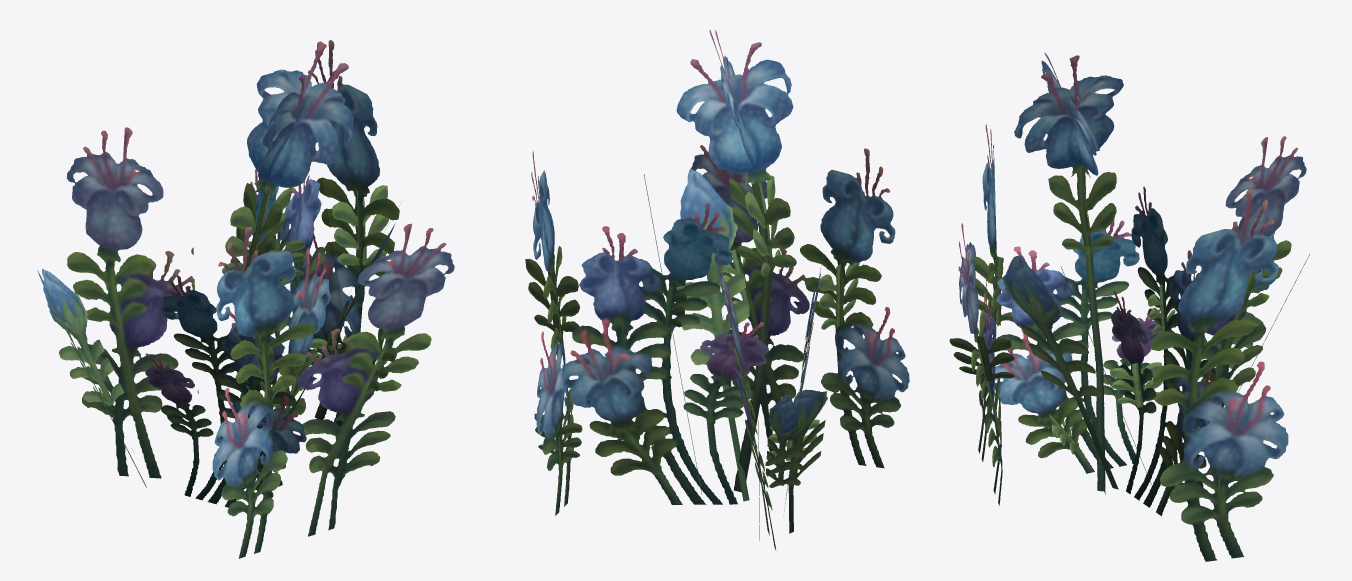
The model's file is Yland2_zb_19 Yland2.FBX.
3 views of the same model, side by side, from view 1: azimuth 30°, elevation 25°; view 2: azimuth 150°, elevation 25°; view 3: azimuth 270°, elevation 25° (orthographic). The views are drawn at different scales.
Parts seen in each view (by area): view 1: Yland2_zb_19 Yland2; view 2: Yland2_zb_19 Yland2; view 3: Yland2_zb_19 Yland2.
Part boxes in pixels (x1,y1,x2,y2): Yland2_zb_19 Yland2: [37, 40, 454, 558]; Yland2_zb_19 Yland2: [525, 30, 909, 550]; Yland2_zb_19 Yland2: [949, 52, 1309, 561].
Bounding box in the file's own units: 5.6 × 7.48 × 5.54.
